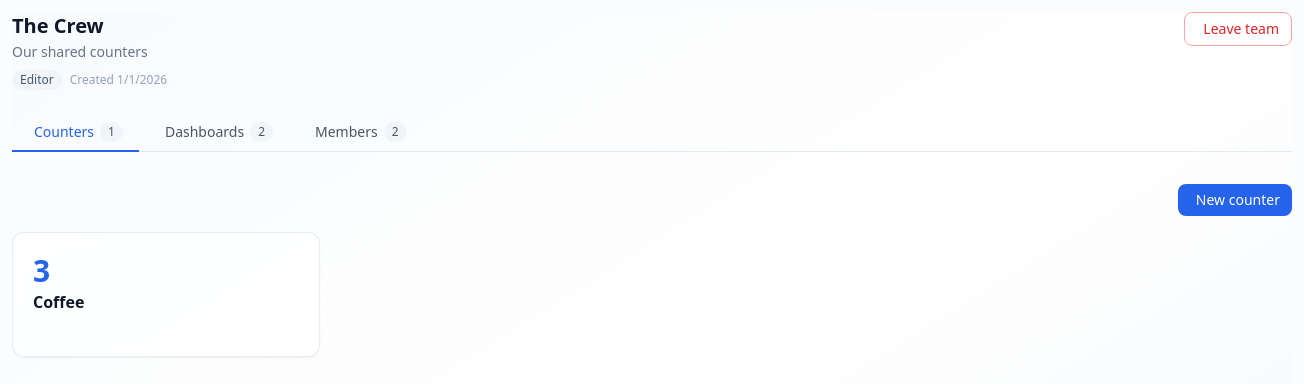
Test: Team page › does not show member management to non-managers
Click the tab "Members 2" at (358, 133), box [293,114,423,152]
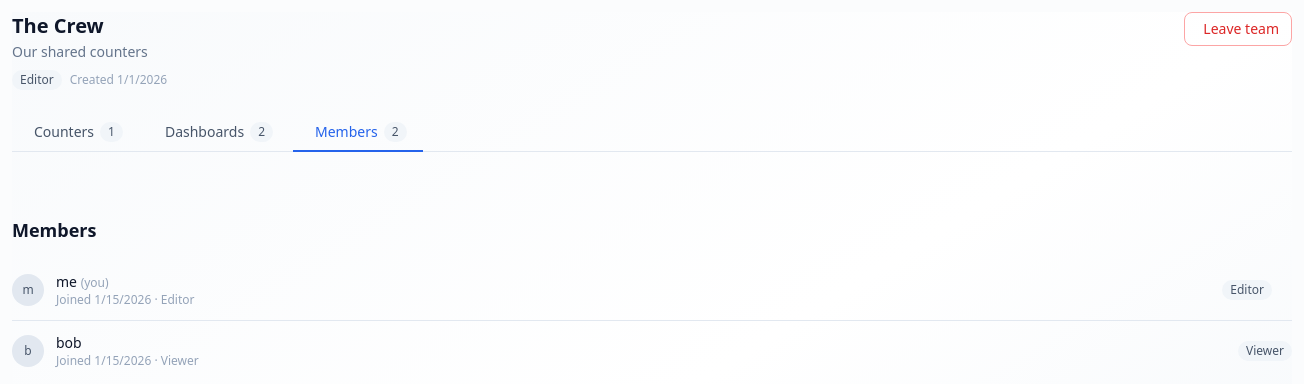
Now the text "bob" is shown, box [56,333,82,352]
